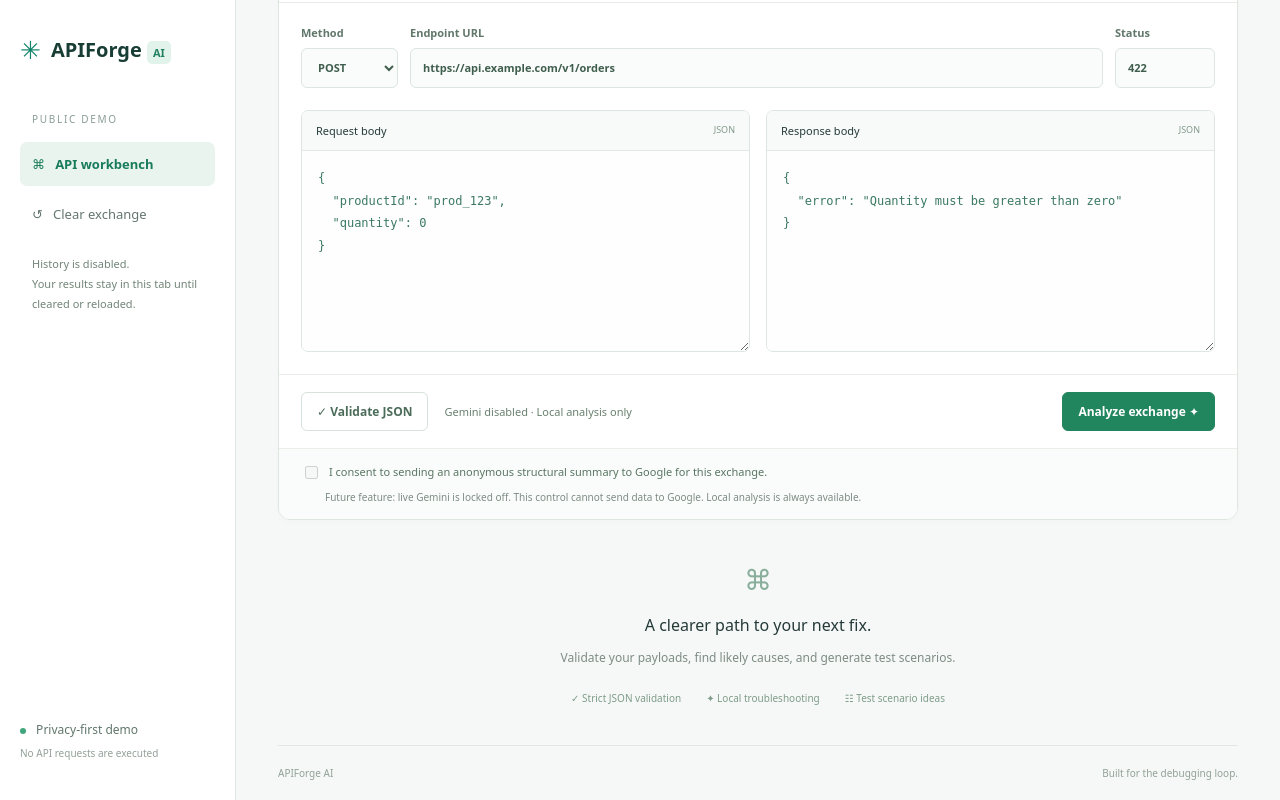
Test: Public API workbench › shows a safe network error and allows retry
(page scrolled)
Click the button "Analyze exchange ✦": coordinates (1139, 411) [1062,392,1215,431]
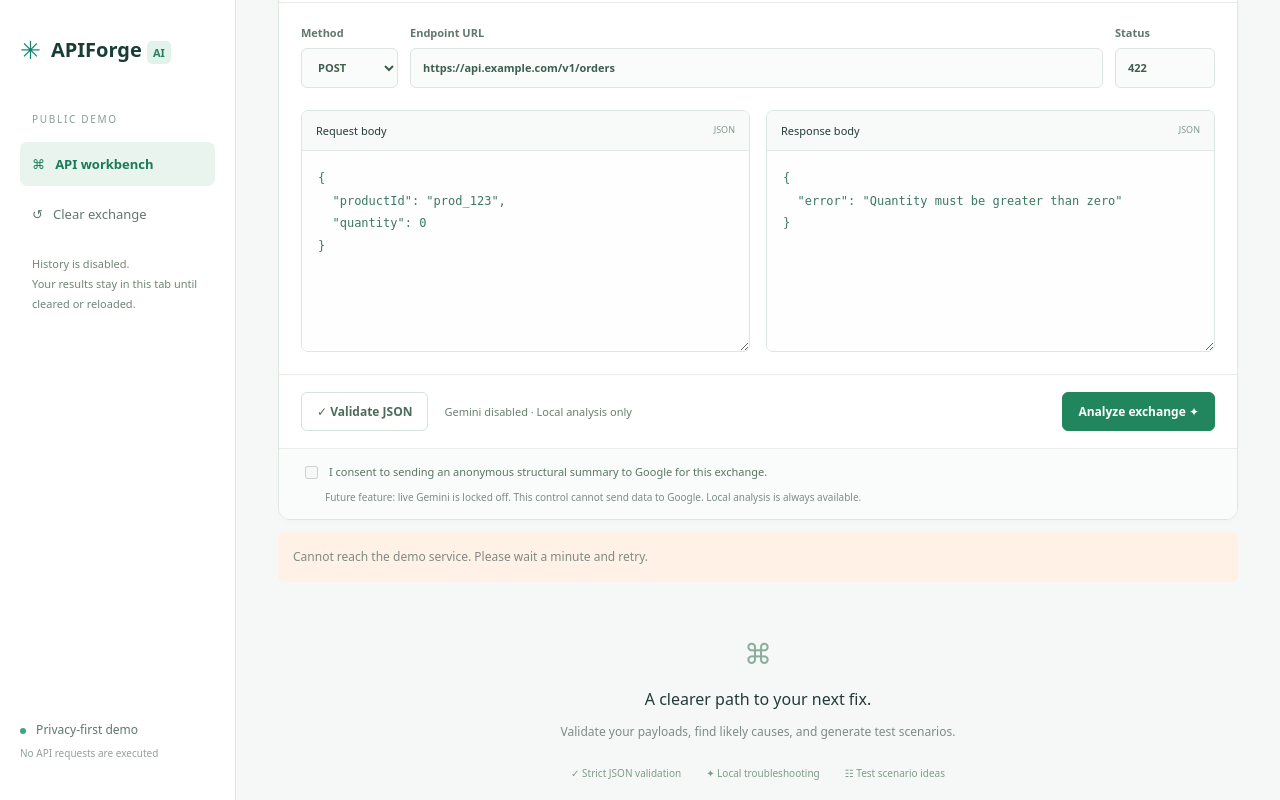
Expected: the message does not show "sensitive internal detail", [278,532,1238,582]
Expected: the message shows "Cannot reach the demo service", [293,548,648,565]
